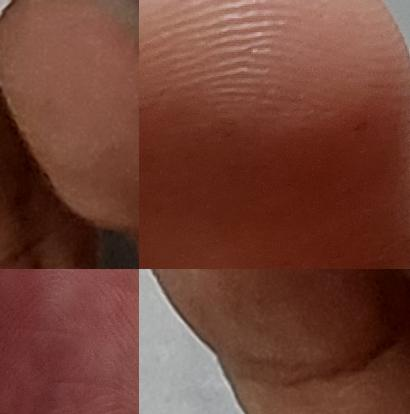Fingerprints: (139, 0, 410, 269), (0, 0, 139, 243), (152, 269, 410, 365), (0, 269, 139, 414)
